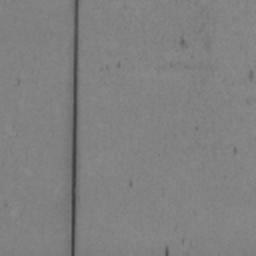Scratches: (70, 0, 81, 256)
